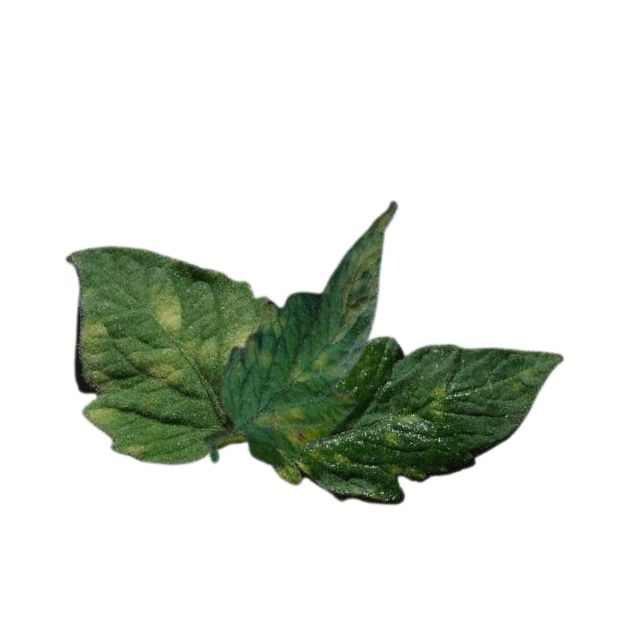Leaf_Mold: (253, 404, 320, 445), (196, 324, 253, 370), (143, 283, 184, 344), (133, 347, 187, 387), (273, 451, 314, 487), (78, 313, 113, 350), (286, 353, 326, 384), (85, 401, 121, 430), (426, 383, 449, 420)
